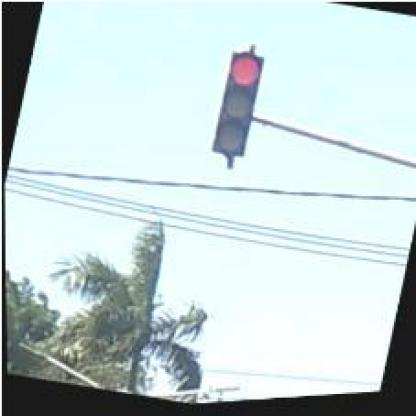red: (207, 50, 266, 163)
